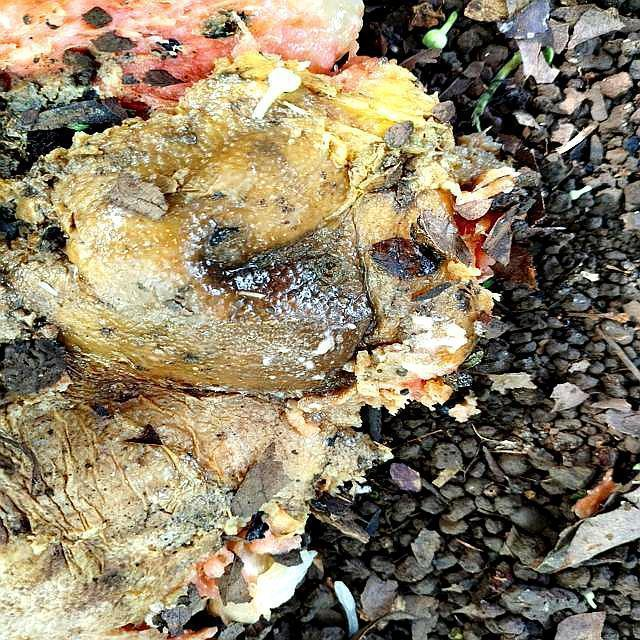Biodegradable: (1, 1, 501, 640)
